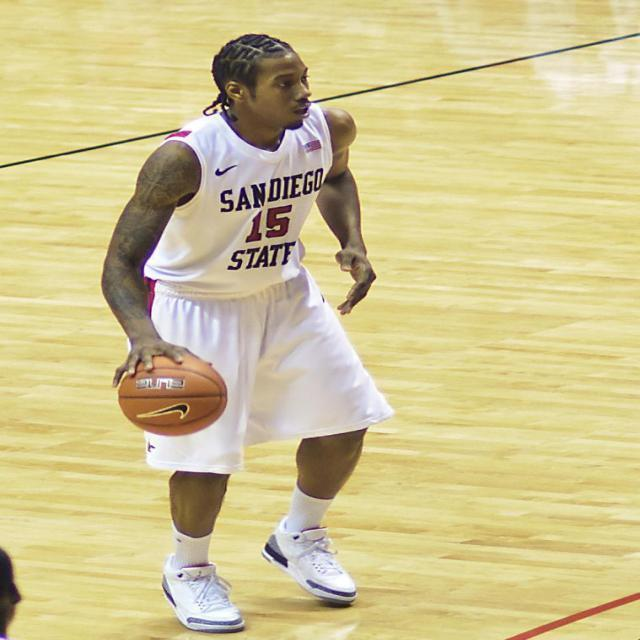ball: (117, 353, 227, 441)
